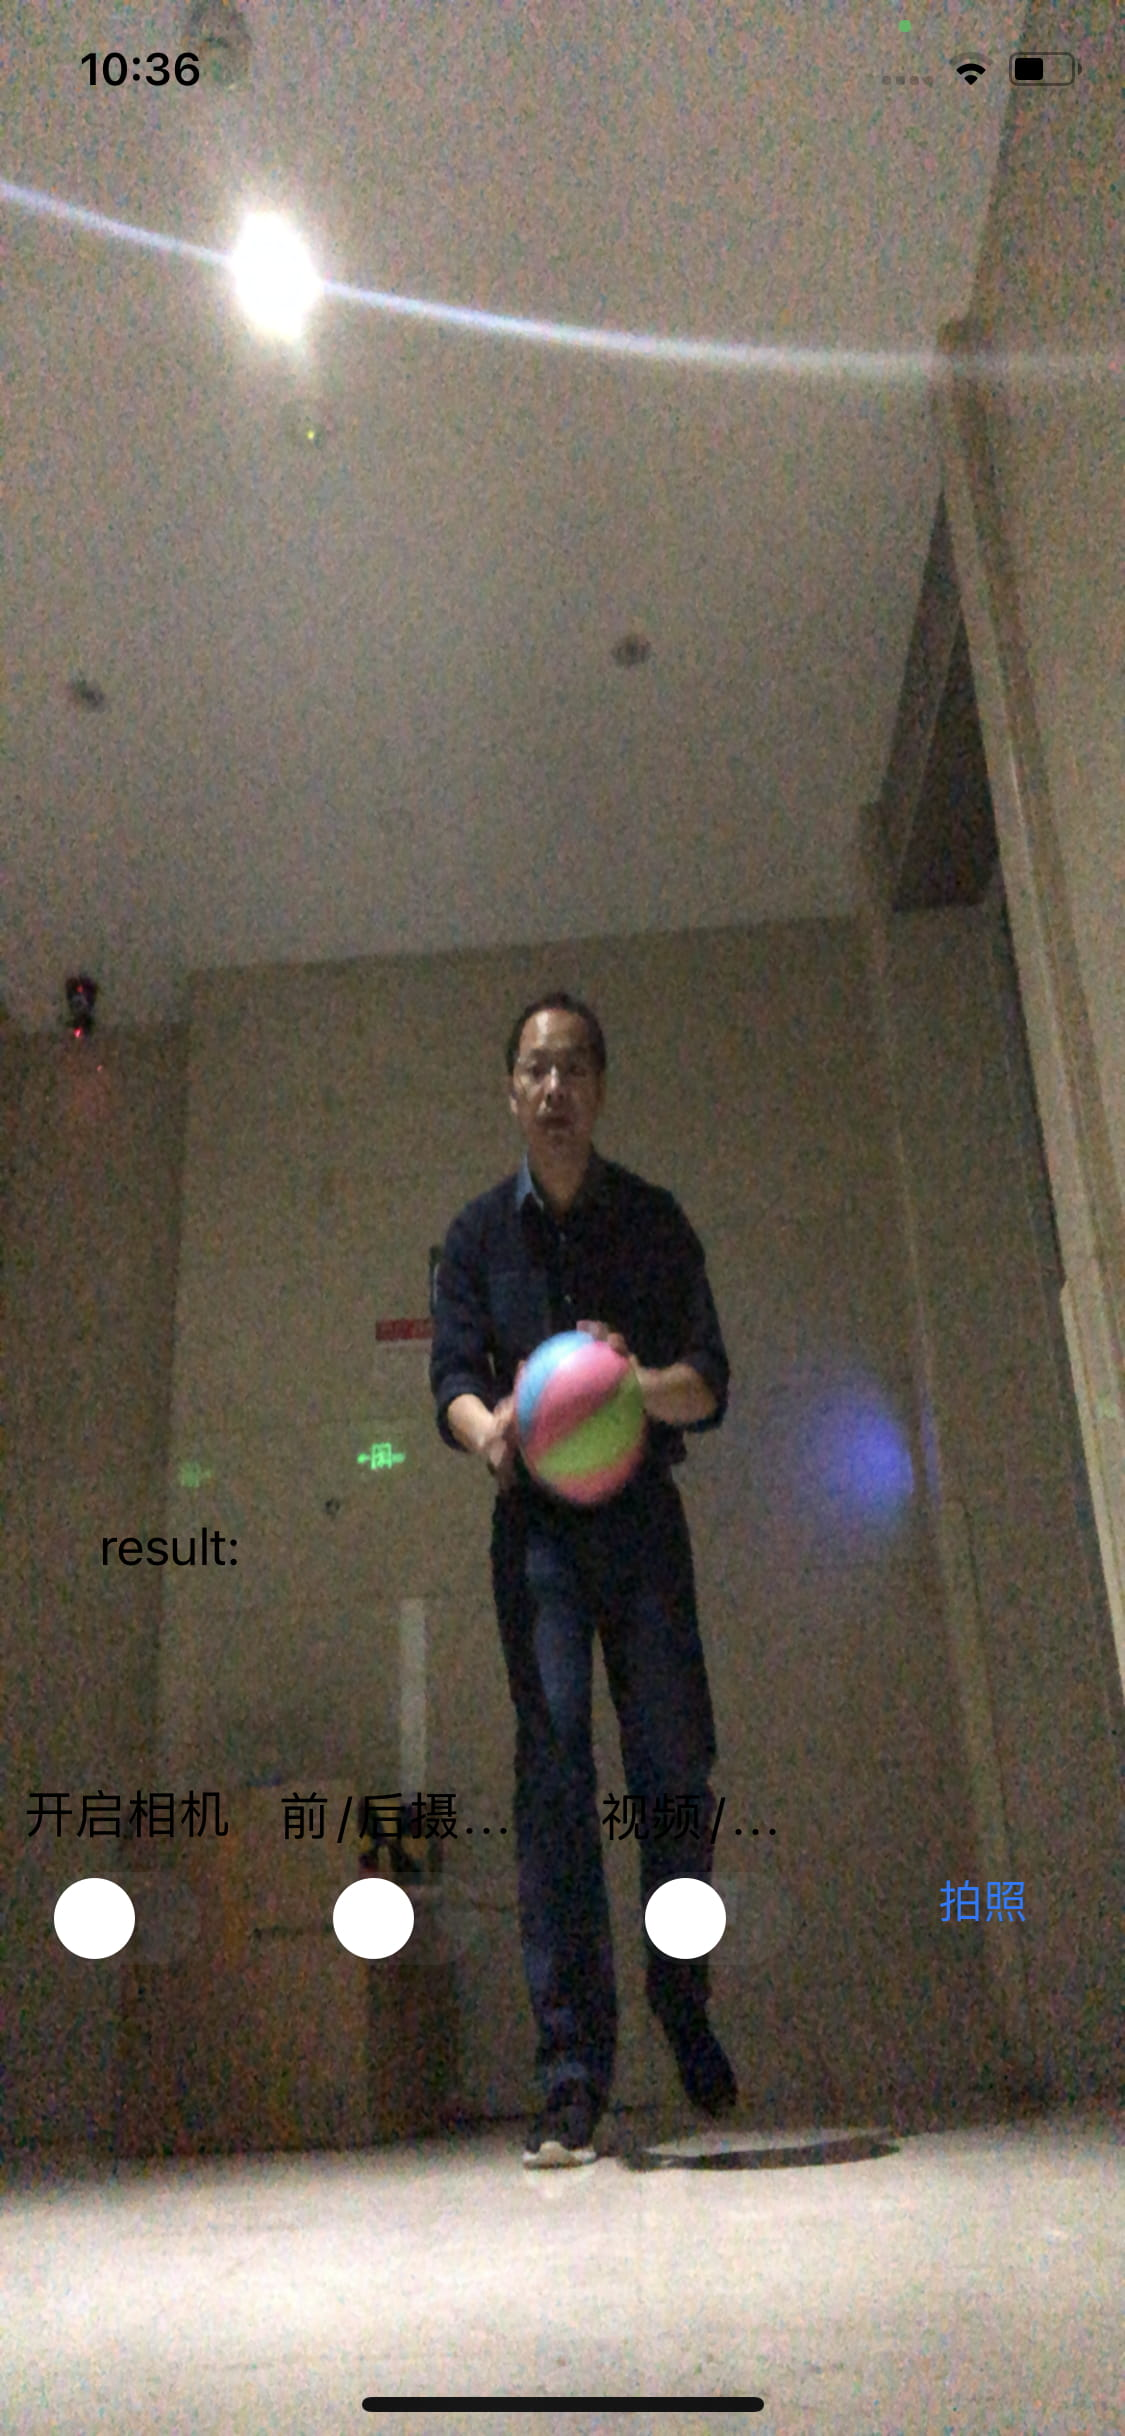ball: (514, 1331, 648, 1502)
